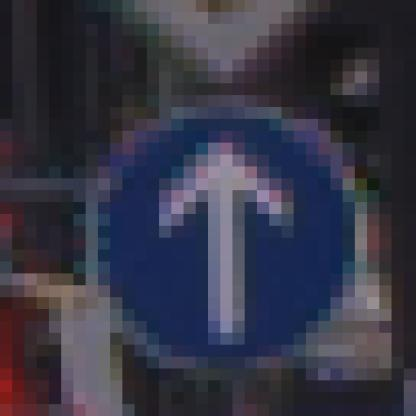AheadOnly: (62, 72, 344, 346)
